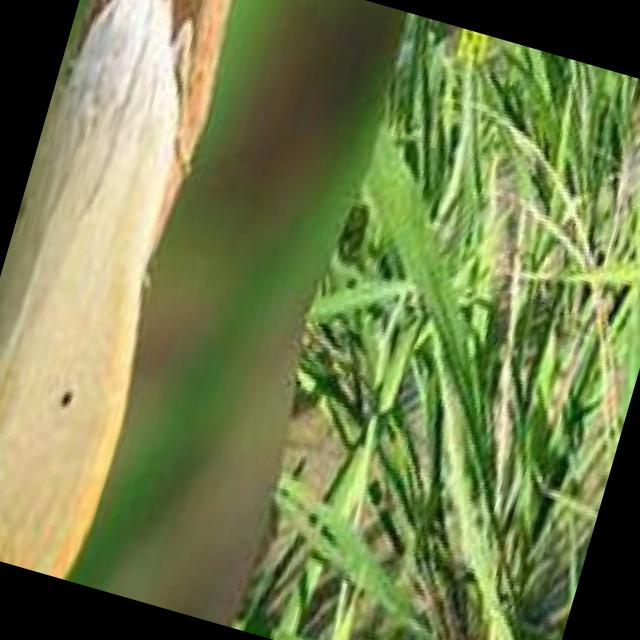stem-borer: (0, 0, 259, 585)
